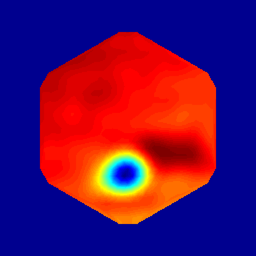ship: (111, 159, 146, 186)
wave: (135, 146, 183, 171)
